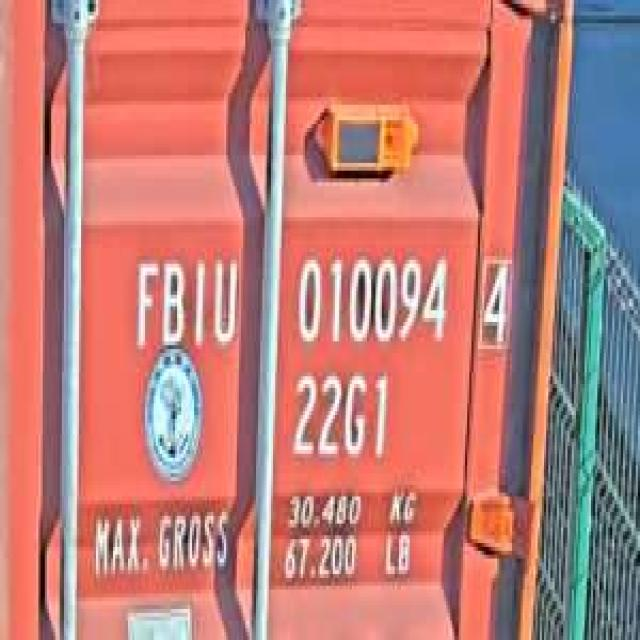dv: (476, 248, 514, 353)
owner: (126, 244, 241, 353)
serial: (290, 244, 450, 353)
size: (286, 361, 392, 469)
